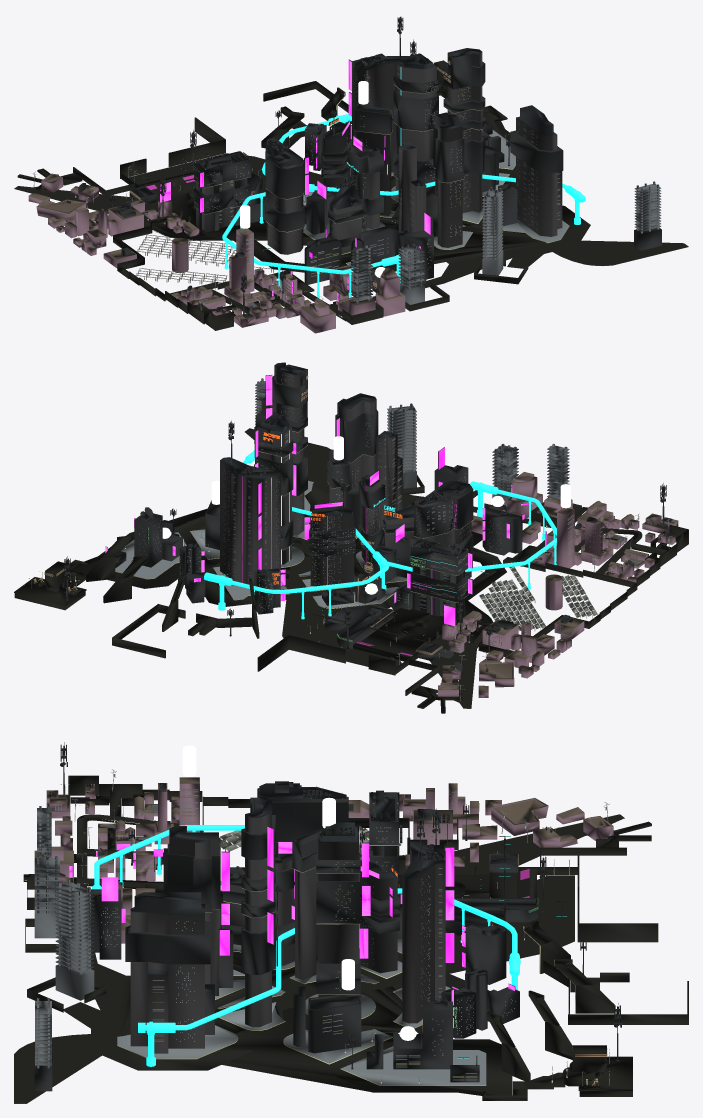
Rendered from Cyberpunk city 2.fbx.
3 views of the same model, one above another, from view 1: azimuth 30°, elevation 25°; view 2: azimuth 150°, elevation 25°; view 3: azimuth 270°, elevation 25° (orthographic). The views are drawn at different scales.
Parts seen in each view (by area): view 1: Cuberpunk2077.001; view 2: Cuberpunk2077.001; view 3: Cuberpunk2077.001.
Boxes of the visible parts, <box> form: Cuberpunk2077.001: <box>14,16,688,333</box>; Cuberpunk2077.001: <box>14,362,688,713</box>; Cuberpunk2077.001: <box>14,742,688,1103</box>.
Size of the model in its own units: 2043 by 692 by 1965.
